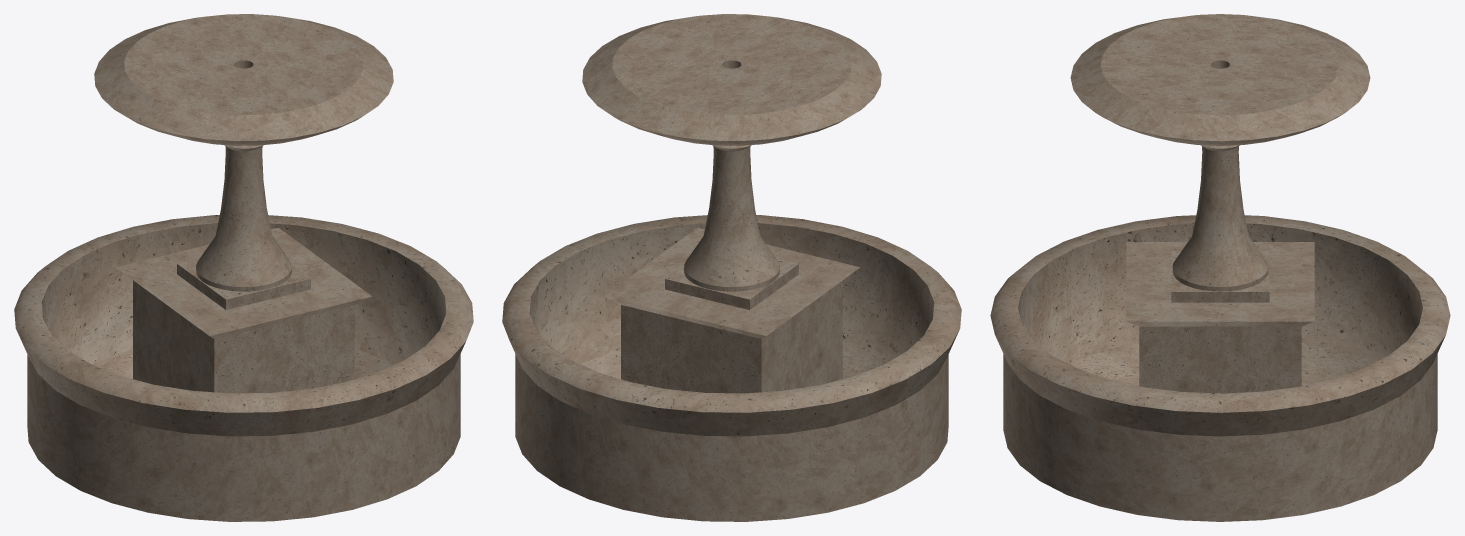
File: fountain.gltf
The picture shows the model from 3 angles, left to right: view 1: azimuth 30°, elevation 25°; view 2: azimuth 150°, elevation 25°; view 3: azimuth 270°, elevation 25°; orthographic projection.
Visible parts, largest first — view 1: Cone; view 2: Cone; view 3: Cone.
Boxes of the visible parts, x1=… form: Cone: x1=14, y1=14, x2=473, y2=521; Cone: x1=502, y1=14, x2=961, y2=521; Cone: x1=990, y1=14, x2=1450, y2=521.
Size of the model in its own units: 2.12 by 1.86 by 2.12.
Materials: 1 (1 with a texture image).
